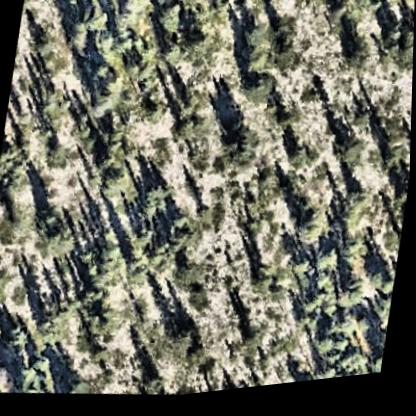tree-top: (372, 28, 415, 89), (290, 209, 334, 257), (219, 126, 261, 173), (334, 191, 376, 238), (330, 135, 371, 179), (161, 218, 201, 258), (41, 221, 82, 260), (339, 40, 376, 82), (153, 1, 189, 42), (137, 176, 173, 216), (96, 165, 133, 203), (241, 74, 278, 111), (169, 323, 202, 358), (236, 23, 268, 59), (61, 17, 92, 54), (100, 242, 129, 280), (1, 321, 32, 356), (2, 203, 32, 239), (172, 261, 205, 293), (182, 34, 213, 68), (284, 146, 314, 178), (336, 351, 366, 382), (239, 327, 268, 359), (171, 117, 201, 147), (43, 140, 72, 171), (312, 339, 341, 370), (29, 30, 57, 61), (89, 58, 117, 89), (0, 359, 24, 395), (315, 250, 342, 281), (82, 286, 107, 316), (372, 304, 394, 338), (141, 372, 167, 400), (62, 373, 91, 398), (86, 94, 112, 121), (345, 286, 368, 315), (300, 297, 325, 323), (380, 153, 403, 180), (109, 16, 133, 41), (33, 354, 56, 376), (329, 5, 350, 29), (0, 143, 19, 167), (279, 113, 296, 138), (370, 357, 386, 383), (121, 0, 145, 17), (393, 192, 409, 217), (96, 345, 112, 366), (0, 267, 4, 299), (400, 0, 415, 8)
